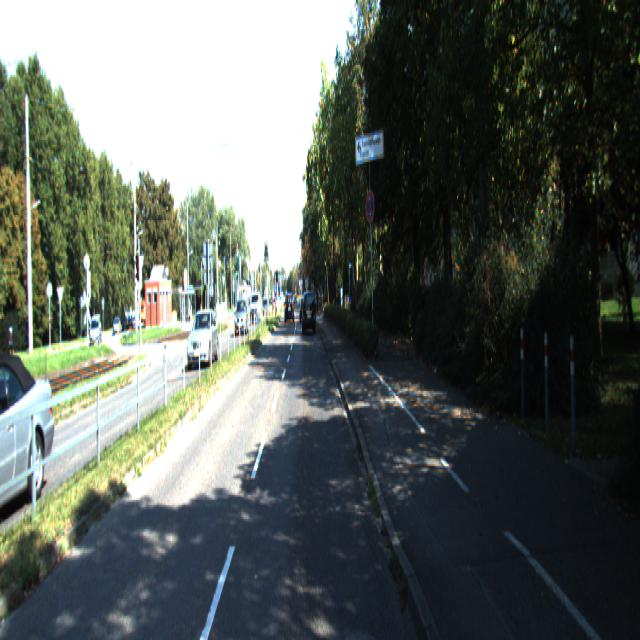Car: (0, 333, 60, 525), (187, 310, 220, 371), (302, 290, 316, 336), (234, 299, 249, 338)
